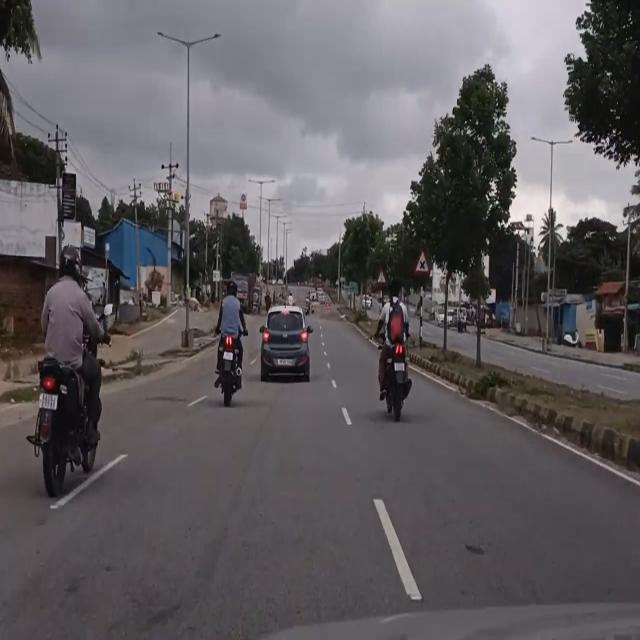bien_cam: (412, 247, 430, 276)
